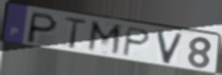8: (187, 36, 213, 70)
M: (85, 19, 124, 58)
P: (24, 11, 60, 46), (120, 26, 152, 58)
T: (63, 16, 88, 51)
V: (155, 30, 185, 66)
